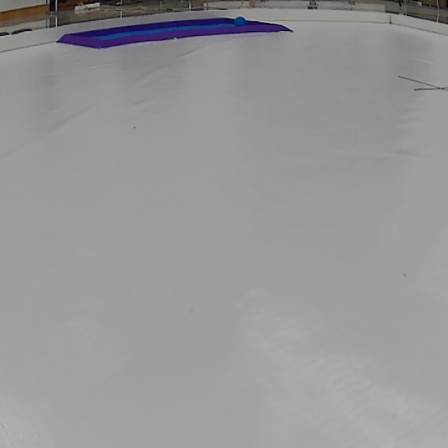blue: (234, 16, 248, 27)
blue_aim: (58, 17, 292, 51)
